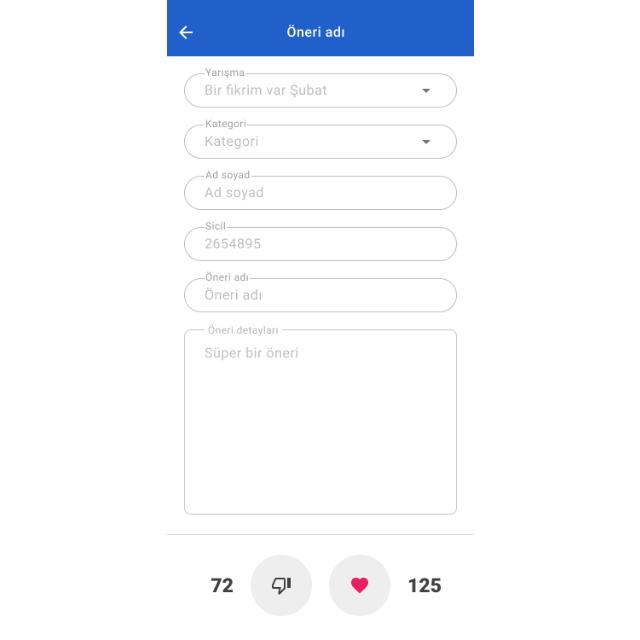QLabel: (281, 21, 349, 43), (408, 577, 440, 593), (209, 577, 233, 593)
VAppBar: (166, 0, 474, 58)
VCombobox: (184, 68, 460, 108), (184, 120, 456, 160)
VFooter: (166, 534, 474, 640)
VIcon: (174, 22, 194, 42)
VImg: (328, 555, 390, 617), (250, 554, 310, 618)
VTextField: (184, 272, 456, 314), (183, 222, 457, 262), (184, 172, 456, 210)
VTextarea: (182, 326, 458, 516)
